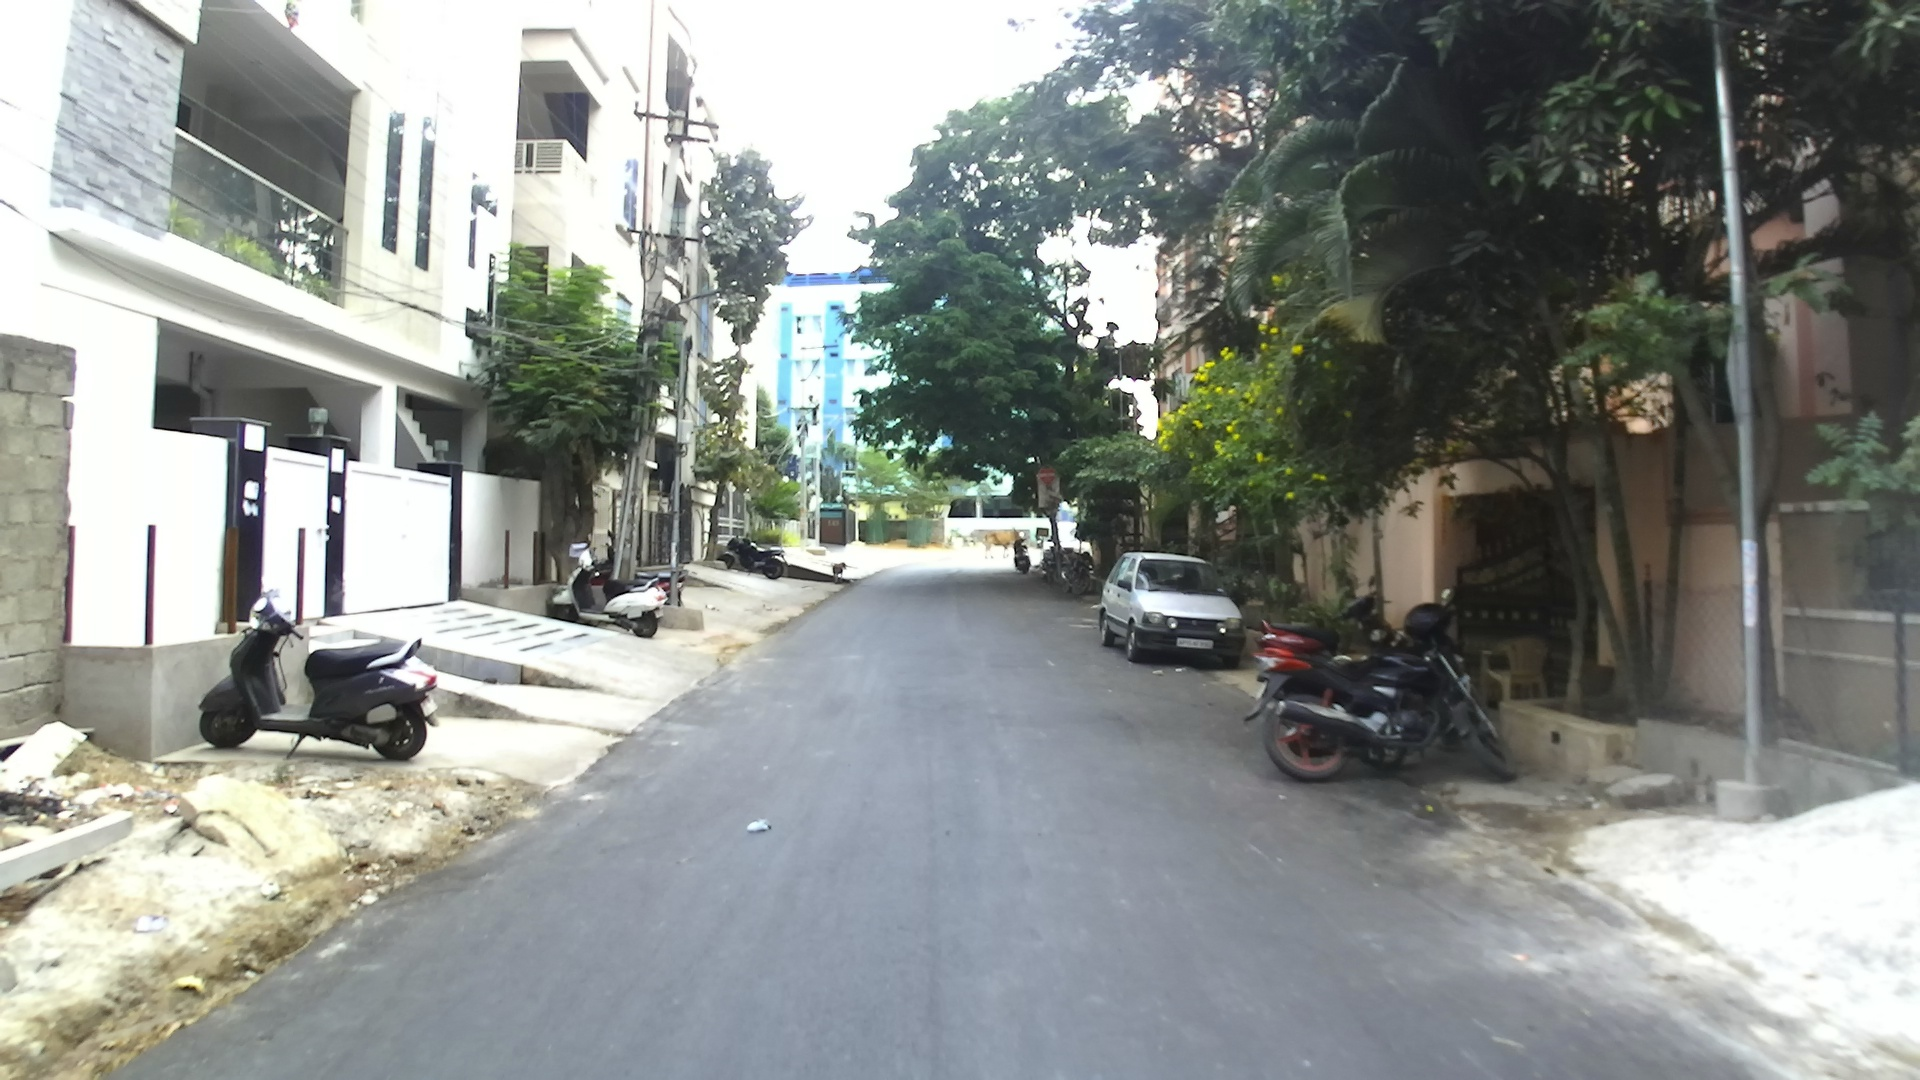vehicle: (1246, 603, 1516, 782), (196, 597, 439, 764), (1096, 553, 1245, 669)
